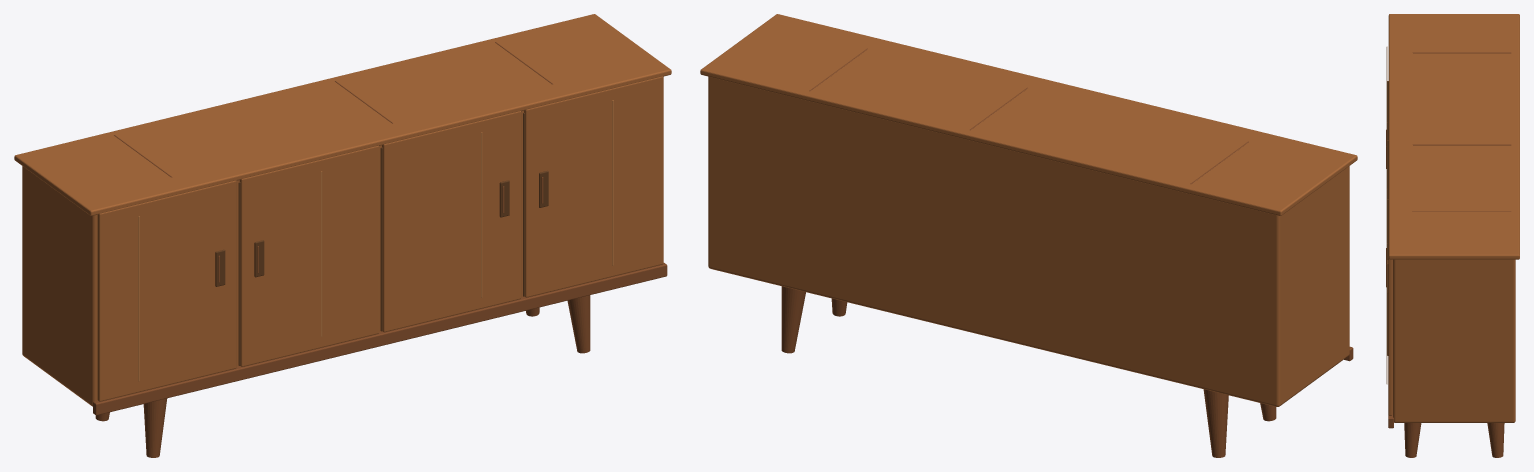
File: teak-sideboard.glb
3 renders of one model, left to right at view 1: azimuth 30°, elevation 25°; view 2: azimuth 150°, elevation 25°; view 3: azimuth 270°, elevation 25°, orthographic. The views are drawn at different scales.
Parts seen in each view (by area): view 1: teak-sideboard; view 2: teak-sideboard; view 3: teak-sideboard.
Boxes of the visible parts, box(x1,y1,x2,y2) form: teak-sideboard: box(14, 14, 671, 457); teak-sideboard: box(700, 14, 1357, 457); teak-sideboard: box(1386, 14, 1519, 457).
Bounding box in the file's own units: 1.81 × 0.8159 × 0.425.
